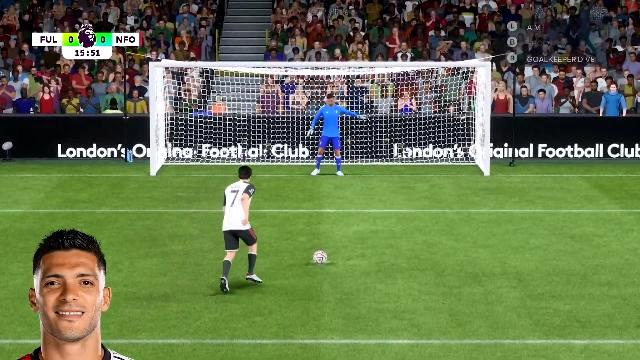bottom-left: (157, 121, 260, 180)
bottom-right: (374, 120, 484, 178)
center-down: (262, 120, 372, 178)
center-up: (262, 68, 372, 120)
football: (313, 252, 327, 262)
goalkeeper: (306, 93, 366, 181)
player: (214, 166, 274, 268)
top-left: (157, 68, 261, 120)
top-right: (374, 68, 484, 119)
